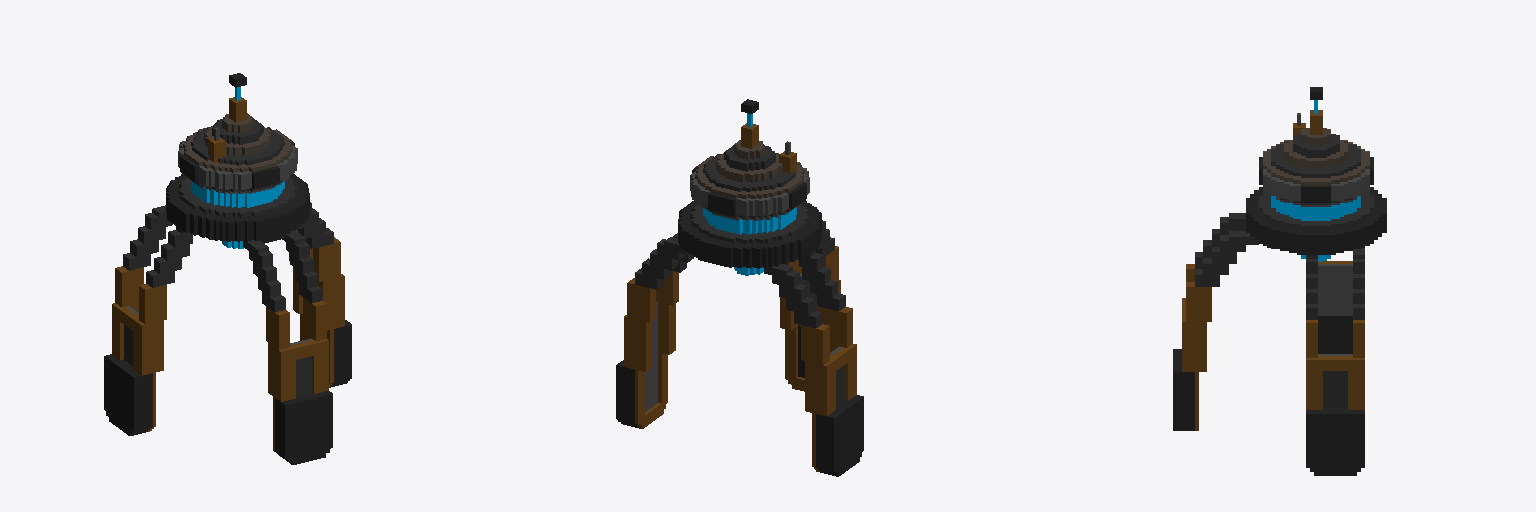
3 renders of one model, left to right at view 1: azimuth 30°, elevation 25°; view 2: azimuth 150°, elevation 25°; view 3: azimuth 270°, elevation 25°, orthographic.
Visible parts, largest first — view 1: teleport; view 2: teleport; view 3: teleport.
Boxes of the visible parts, box(x1,y1,x2,y2) form: teleport: box(104, 73, 351, 464); teleport: box(616, 99, 863, 476); teleport: box(1173, 87, 1386, 475).
Bounding box in the file's own units: 59 × 86 × 50.
Materials: 1 (1 with a texture image).